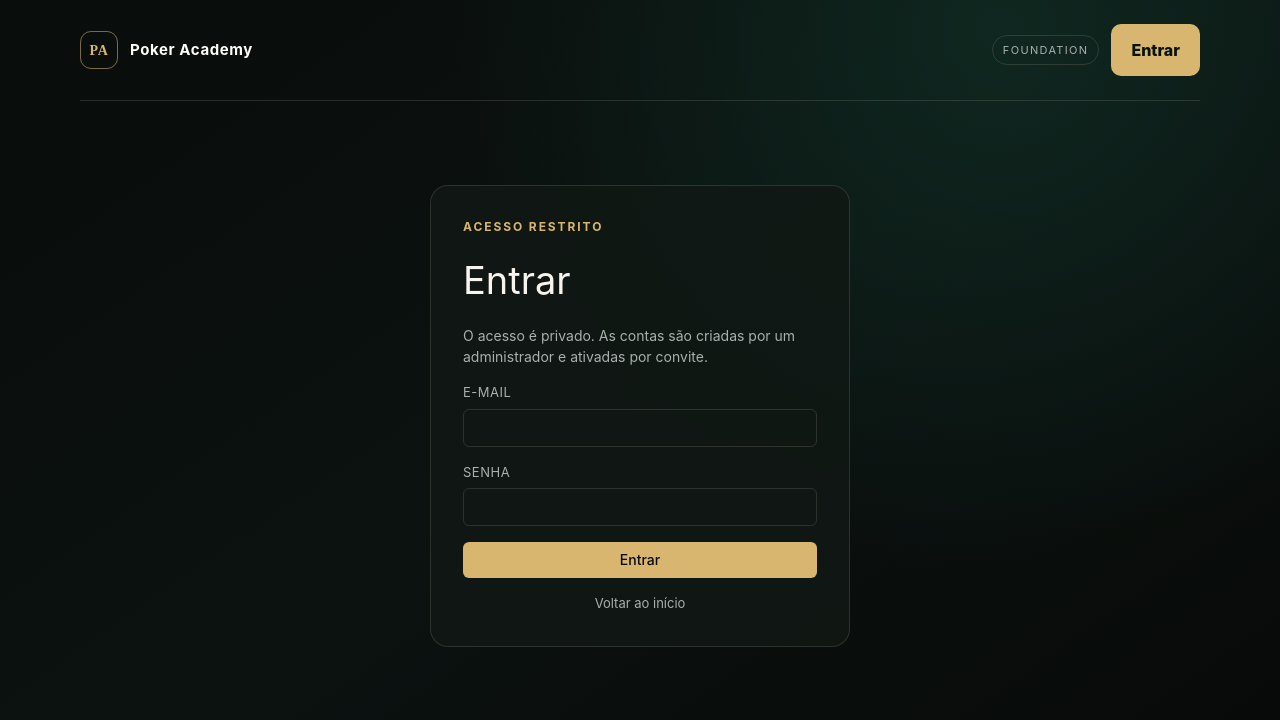
Test: application shell › logs in with valid credentials, stores the token, and opens the dashboard
In the field labelled "E-mail": (640, 428) [463,409,817,447], type "jogador@example.com"
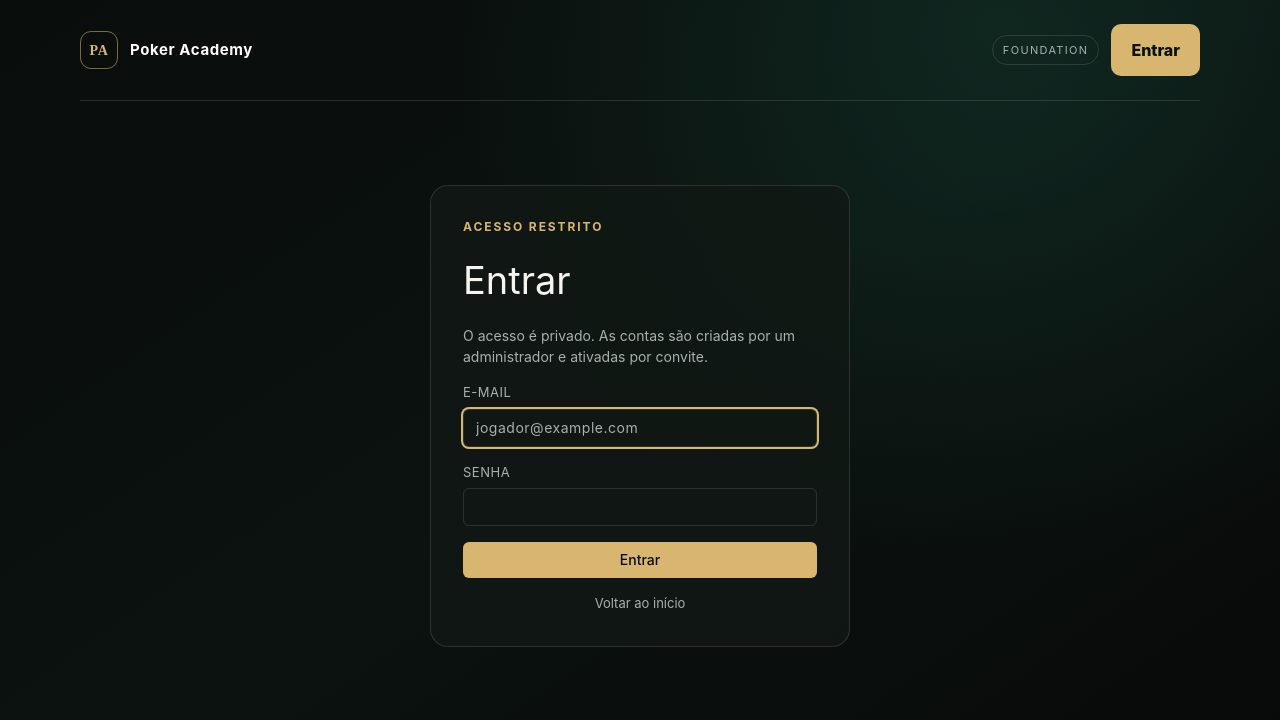
In the password field labelled "Senha": (640, 507) [463,488,817,526], type "private password 2026!"
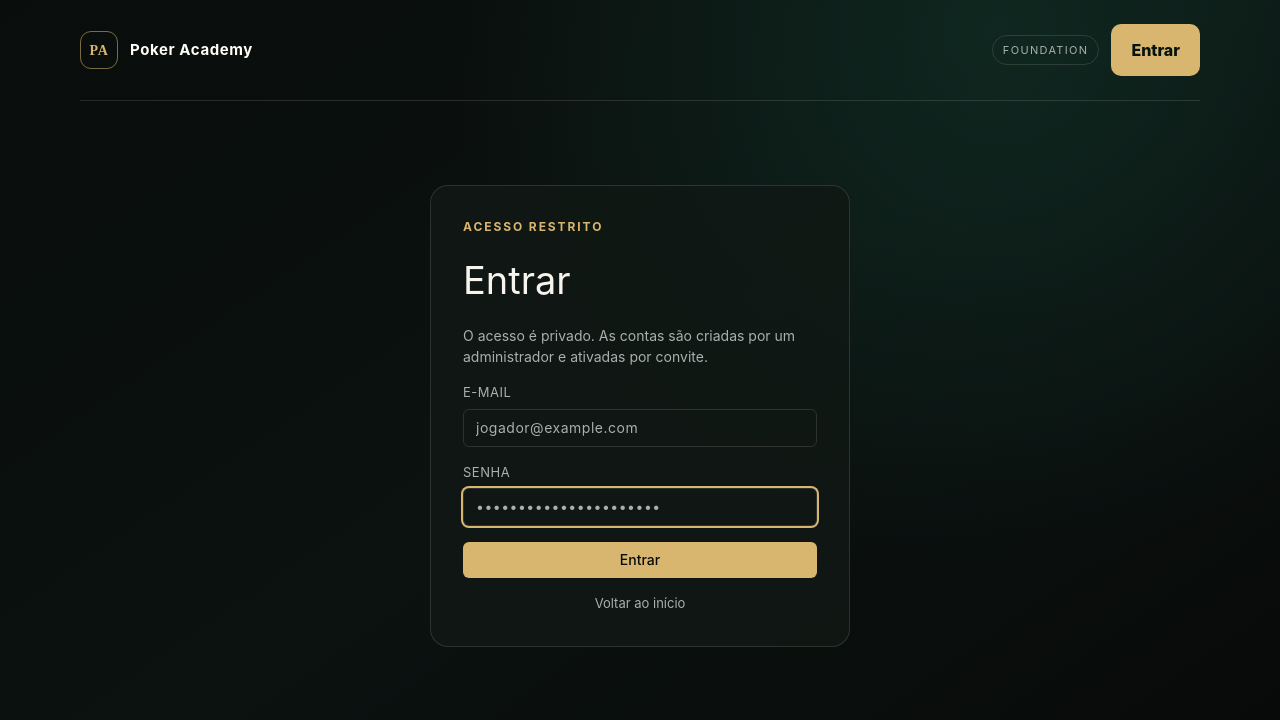
Click the button "Entrar": (640, 560) [463,542,817,578]
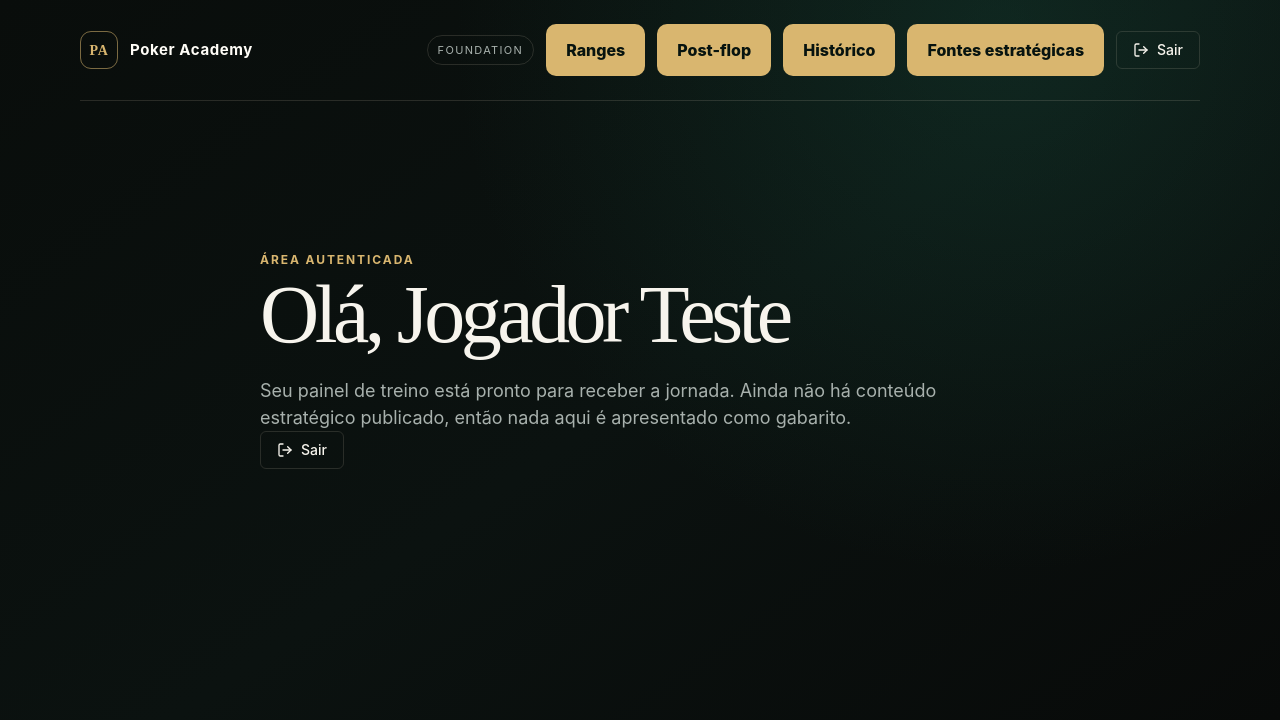
Now the heading "Olá, Jogador Teste" is shown, box [260,269,789,360]
